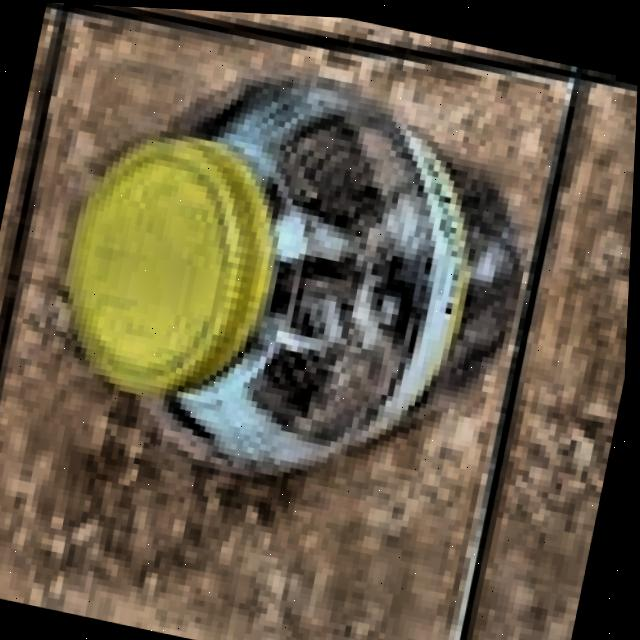plastic: (0, 0, 592, 640)
